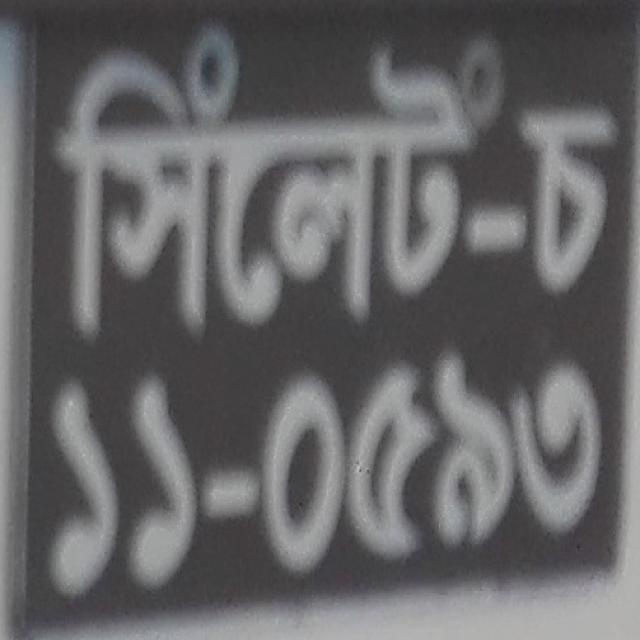cng: (52, 26, 616, 337)
numberplate: (0, 0, 638, 638)
